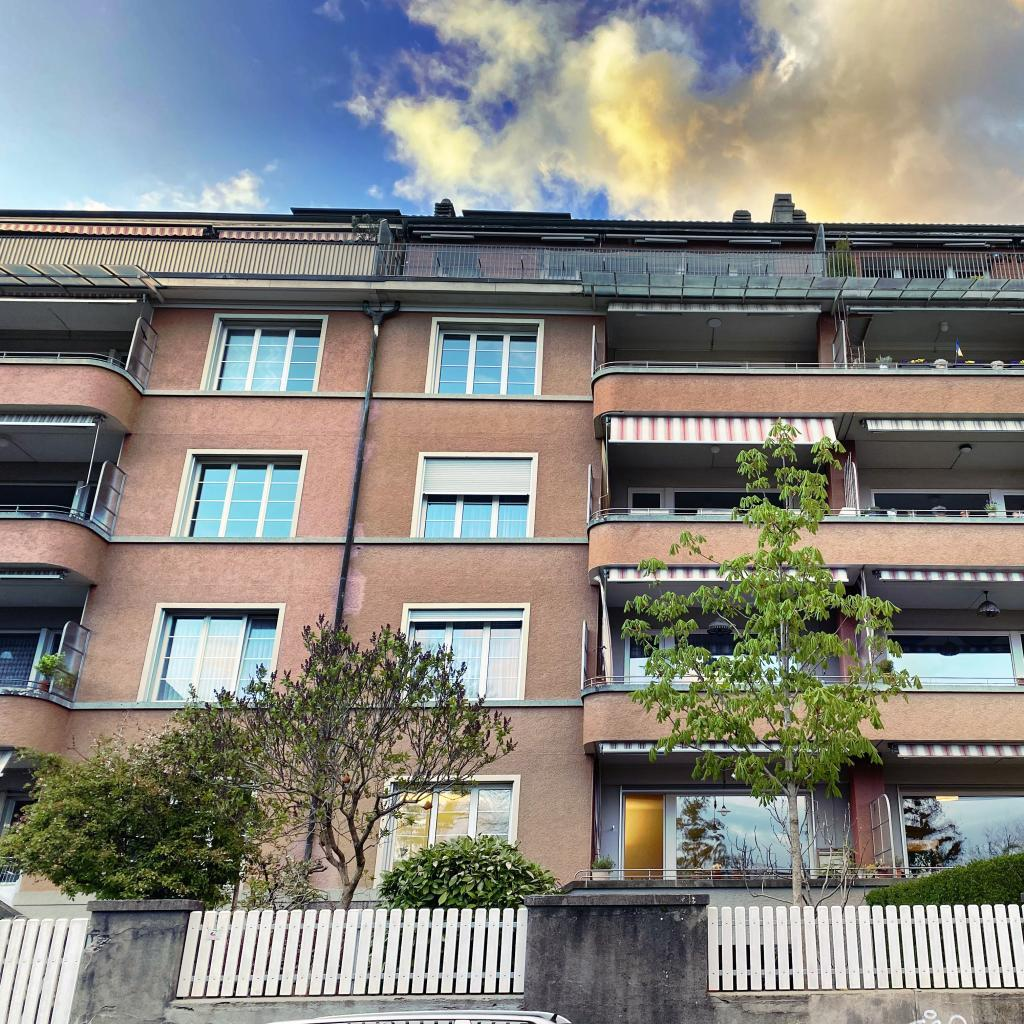balcony-fence: (0, 350, 148, 396), (590, 507, 1024, 522), (583, 675, 1024, 689), (594, 360, 1024, 374), (573, 866, 957, 880), (0, 504, 115, 543), (0, 679, 76, 710)
car: (264, 1009, 574, 1024)
facade: (0, 193, 1024, 912)
vegetation: (619, 419, 1024, 906), (0, 612, 566, 909), (33, 652, 79, 691), (825, 235, 858, 277), (983, 499, 1000, 513), (874, 353, 892, 365)
window: (619, 789, 813, 879), (380, 784, 513, 887), (150, 612, 279, 704), (897, 788, 1024, 879), (404, 608, 524, 701), (624, 630, 797, 684), (418, 456, 532, 537), (183, 461, 302, 537), (884, 631, 1019, 687), (212, 326, 323, 392), (435, 330, 537, 395), (628, 487, 794, 515), (871, 489, 1024, 517), (0, 628, 63, 688)
